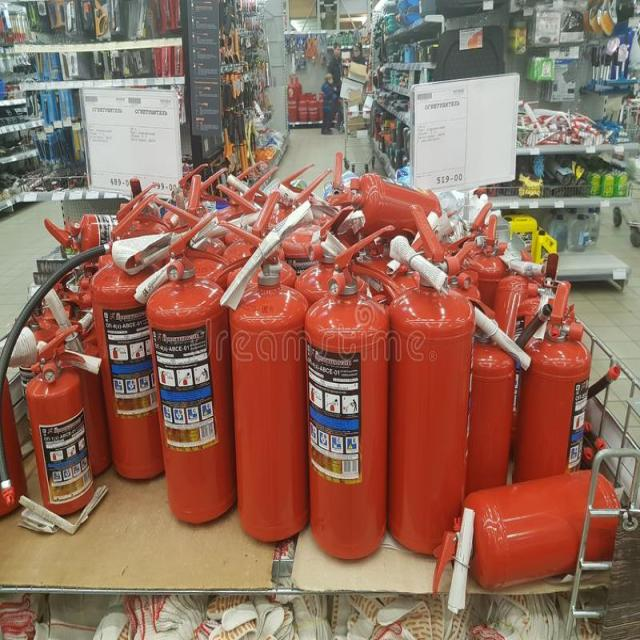fire_extinguisher: (0, 197, 181, 497), (210, 217, 331, 549), (297, 220, 411, 567), (378, 197, 484, 564), (142, 207, 252, 533), (428, 460, 635, 610), (508, 279, 604, 554), (494, 243, 560, 512), (442, 213, 512, 464), (21, 322, 101, 536), (460, 303, 516, 558), (324, 154, 463, 235), (43, 206, 173, 264)
